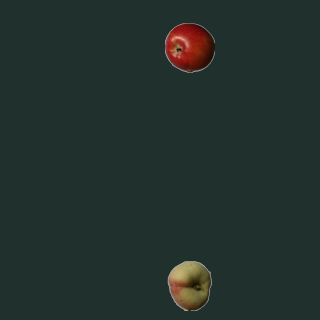Apple Braeburn: (164, 22, 214, 72)
Peach Flat: (164, 260, 214, 310)
